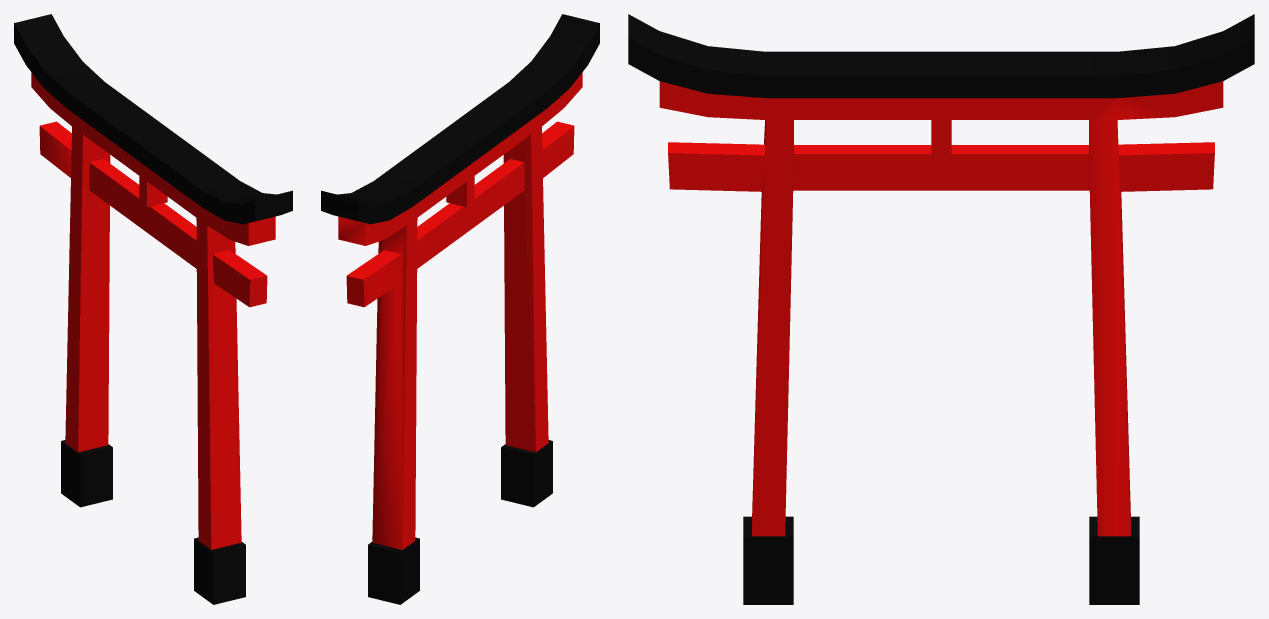
Rendered from torii.fbx.
3 views of the same model, side by side, from view 1: azimuth 30°, elevation 25°; view 2: azimuth 150°, elevation 25°; view 3: azimuth 270°, elevation 25° (orthographic). The views are drawn at different scales.
Visible parts, largest first — view 1: Cube, Cube_1; view 2: Cube, Cube_1; view 3: Cube, Cube_1.
Boxes of the visible parts, x1,y1,x2,y2 form: Cube: [14, 14, 228, 507]; Cube_1: [83, 120, 292, 604]; Cube: [321, 90, 536, 604]; Cube_1: [417, 14, 599, 507]; Cube: [793, 14, 1254, 604]; Cube_1: [628, 14, 1088, 604].
Bounding box in the file's own units: 51.24 × 563 × 562.
